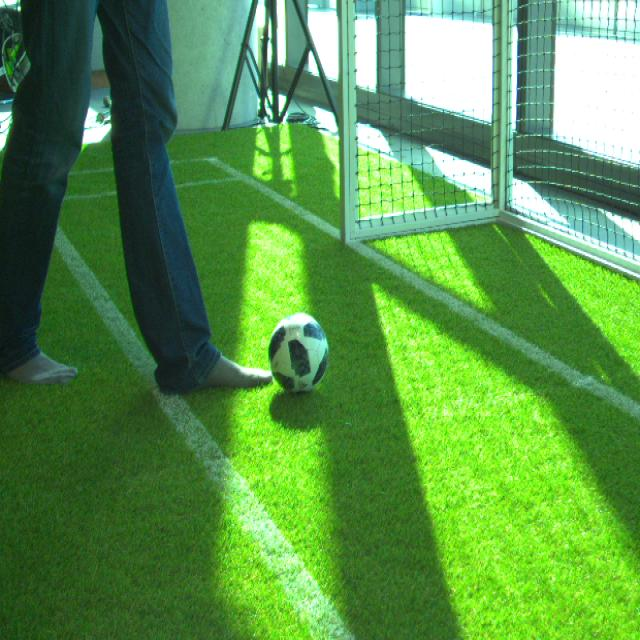ball: (268, 312, 330, 393)
goalpost: (338, 0, 356, 243)
